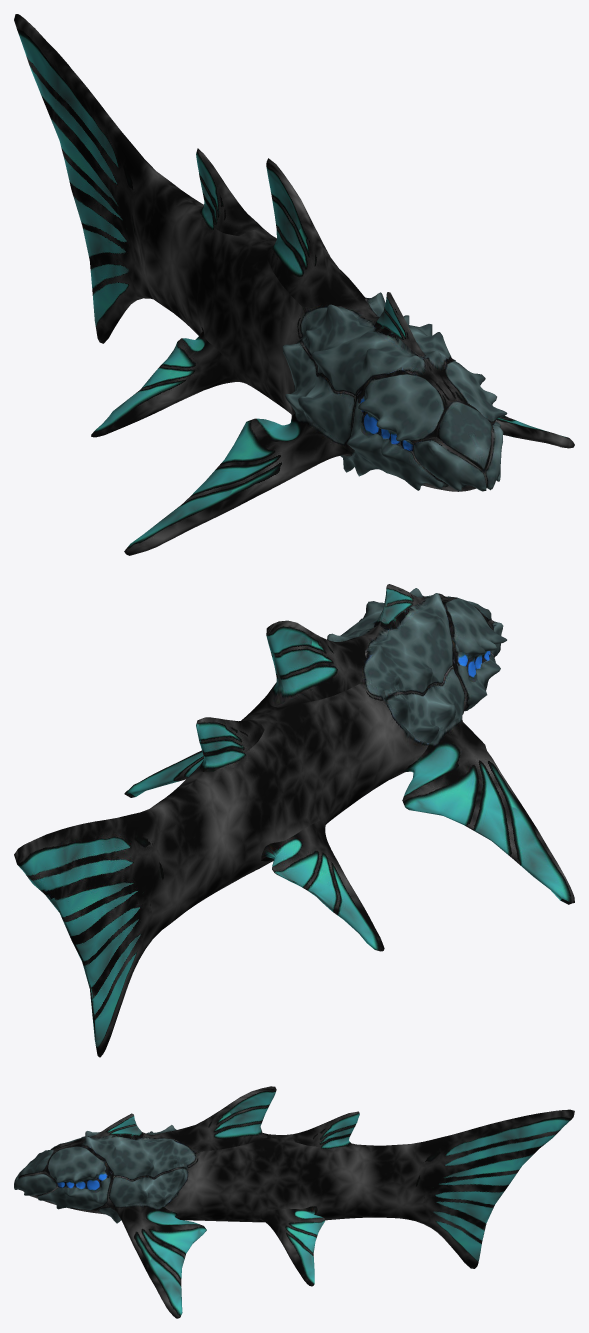
File: SpineFish.glb
3 views of the same model, one above another, from view 1: azimuth 30°, elevation 25°; view 2: azimuth 150°, elevation 25°; view 3: azimuth 270°, elevation 25° (orthographic). The views are drawn at different scales.
Parts seen in each view (by area): view 1: retopo; view 2: retopo; view 3: retopo.
Boxes of the visible parts, x1,y1,x2,y2 form: retopo: (14, 14, 574, 555); retopo: (14, 584, 574, 1057); retopo: (14, 1086, 574, 1318).
Bounding box in the file's own units: 0.7165 × 0.4695 × 1.31.
1 material, 1 textured.
